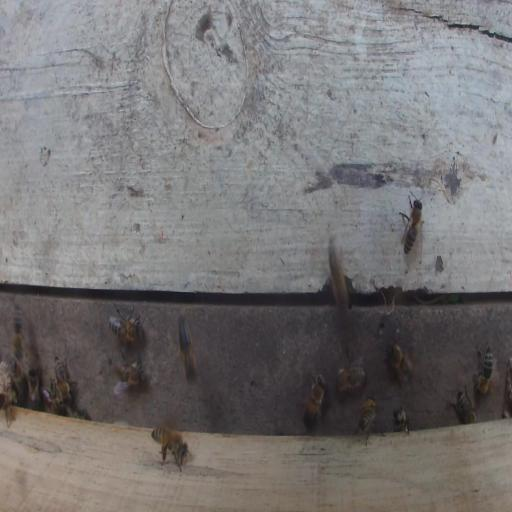Insects: (151, 423, 190, 472), (399, 192, 423, 256), (108, 304, 143, 346), (328, 240, 348, 312), (385, 338, 413, 388), (302, 372, 327, 427), (178, 313, 197, 382), (447, 386, 478, 425), (472, 342, 494, 396), (112, 354, 143, 392), (356, 396, 377, 447), (335, 361, 366, 393), (54, 356, 71, 404), (12, 299, 24, 363), (10, 359, 24, 403), (0, 391, 16, 428), (392, 404, 410, 436), (27, 366, 40, 408), (42, 388, 61, 413)
